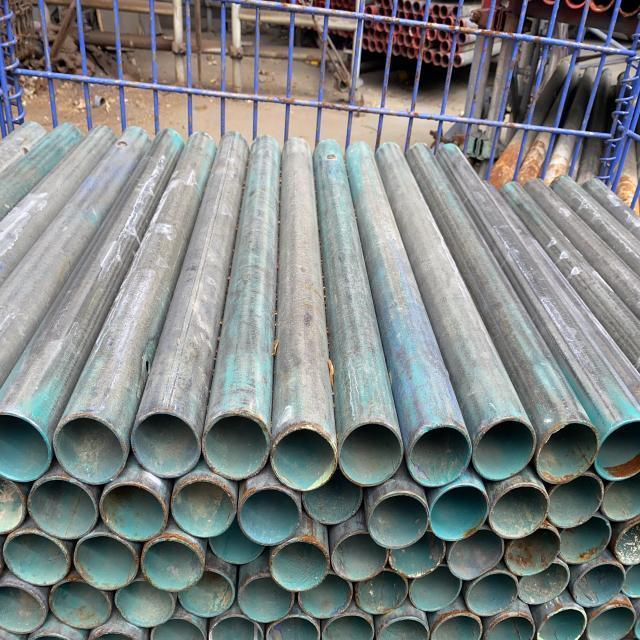pipe: (96, 471, 176, 548), (30, 464, 100, 546), (270, 414, 338, 498), (60, 409, 131, 487), (171, 471, 243, 544), (202, 412, 270, 486), (410, 417, 472, 496), (134, 412, 201, 482), (534, 416, 598, 489), (340, 424, 404, 496), (0, 408, 59, 486), (471, 420, 540, 486), (140, 535, 206, 599), (240, 478, 306, 540), (8, 521, 66, 589), (368, 488, 431, 550), (303, 466, 361, 532), (433, 481, 490, 548), (74, 536, 140, 593), (110, 578, 177, 632), (442, 532, 508, 585), (493, 482, 548, 544), (548, 478, 606, 534), (334, 530, 389, 588), (53, 572, 111, 626), (556, 517, 612, 572), (269, 538, 327, 590), (599, 411, 639, 484), (180, 570, 234, 624), (512, 524, 562, 580), (406, 566, 462, 616), (300, 566, 353, 618), (355, 566, 408, 617), (466, 568, 520, 617), (390, 536, 448, 580), (206, 524, 262, 569), (237, 576, 293, 621), (0, 578, 44, 634), (600, 468, 640, 528), (517, 562, 568, 607), (575, 562, 620, 613), (0, 478, 31, 540), (376, 610, 437, 640), (587, 606, 637, 640), (208, 611, 263, 640), (539, 608, 587, 640), (154, 612, 208, 640), (486, 611, 535, 640), (432, 612, 480, 640), (262, 617, 320, 640), (320, 615, 373, 640), (612, 520, 640, 562), (621, 562, 640, 604)
